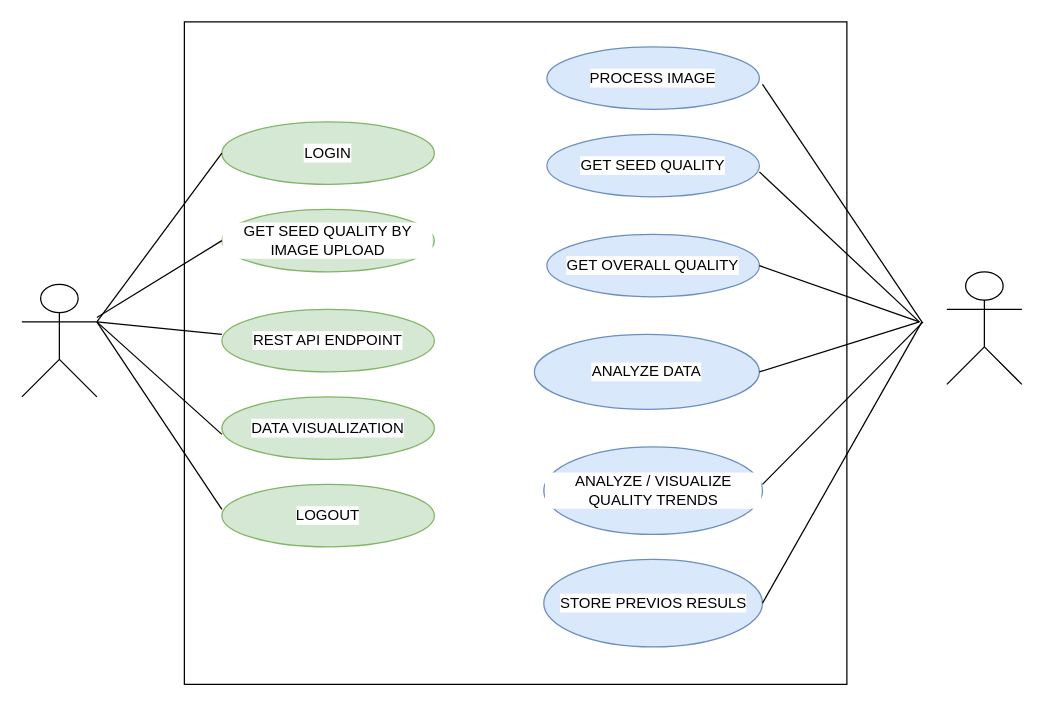
Image size: 1044x706. Some labels were removed from this diagram. The shapes that lost their labels are listed below. From the top down, each one's box as (x1, y1, x2, y2) in pixels, then its label:
(21, 283, 97, 397): User
(946, 271, 1022, 384): SYSTEM
